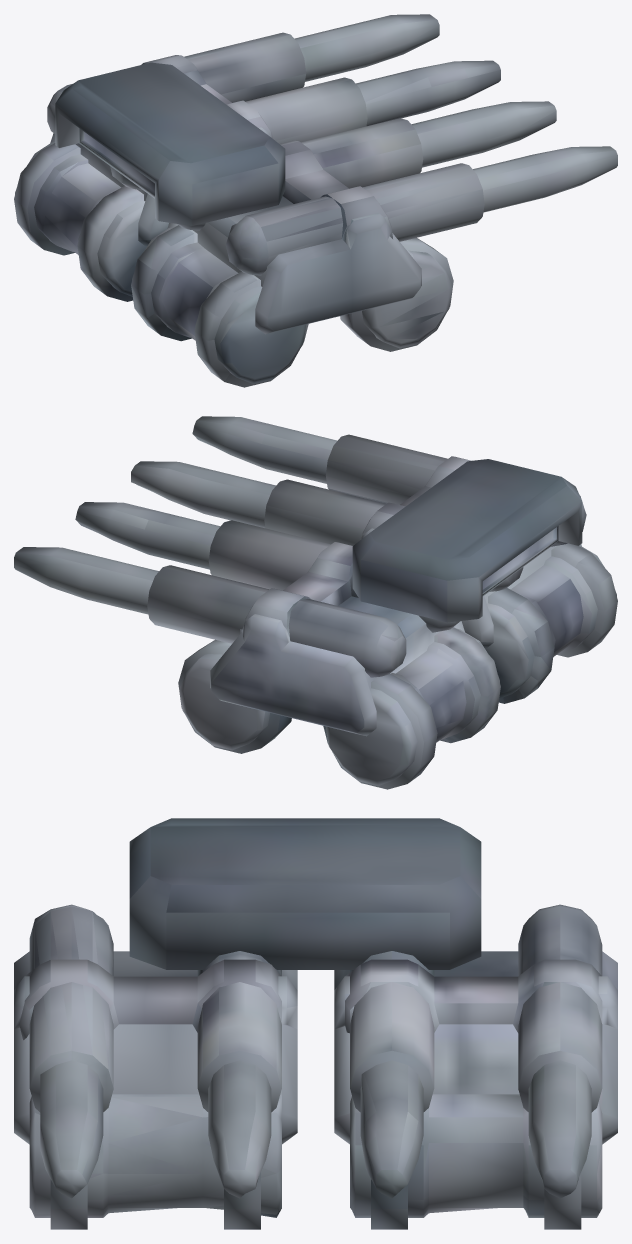
The model's file is 整備庫_04_飛彈架.glb.
3 views of the same model, one above another, from view 1: azimuth 30°, elevation 25°; view 2: azimuth 150°, elevation 25°; view 3: azimuth 270°, elevation 25° (orthographic). The views are drawn at different scales.
Parts seen in each view (by area): view 1: 04_飛彈架; view 2: 04_飛彈架; view 3: 04_飛彈架.
Part boxes in pixels (x1=…): 04_飛彈架: x1=14, y1=14, x2=617, y2=387; 04_飛彈架: x1=14, y1=416, x2=617, y2=789; 04_飛彈架: x1=14, y1=818, x2=617, y2=1229.
Bounding box in the file's own units: 0.0615 × 0.0283 × 0.0562.
Materials: 1 (1 with a texture image).
